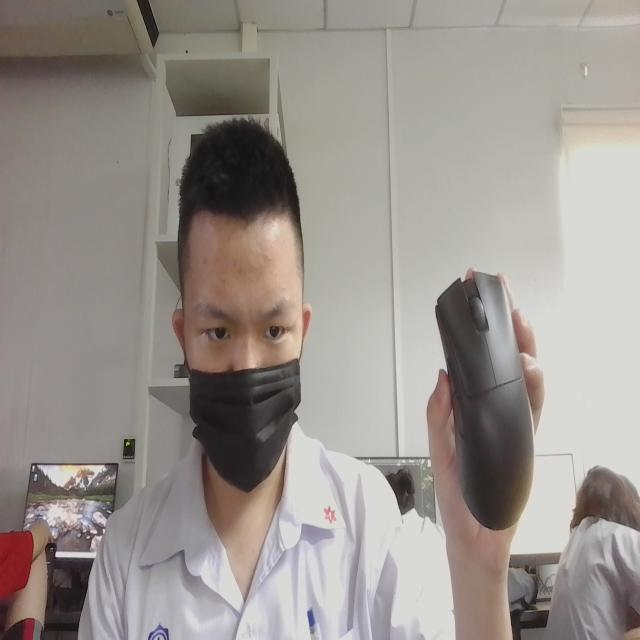mouse: (428, 256, 541, 538)
